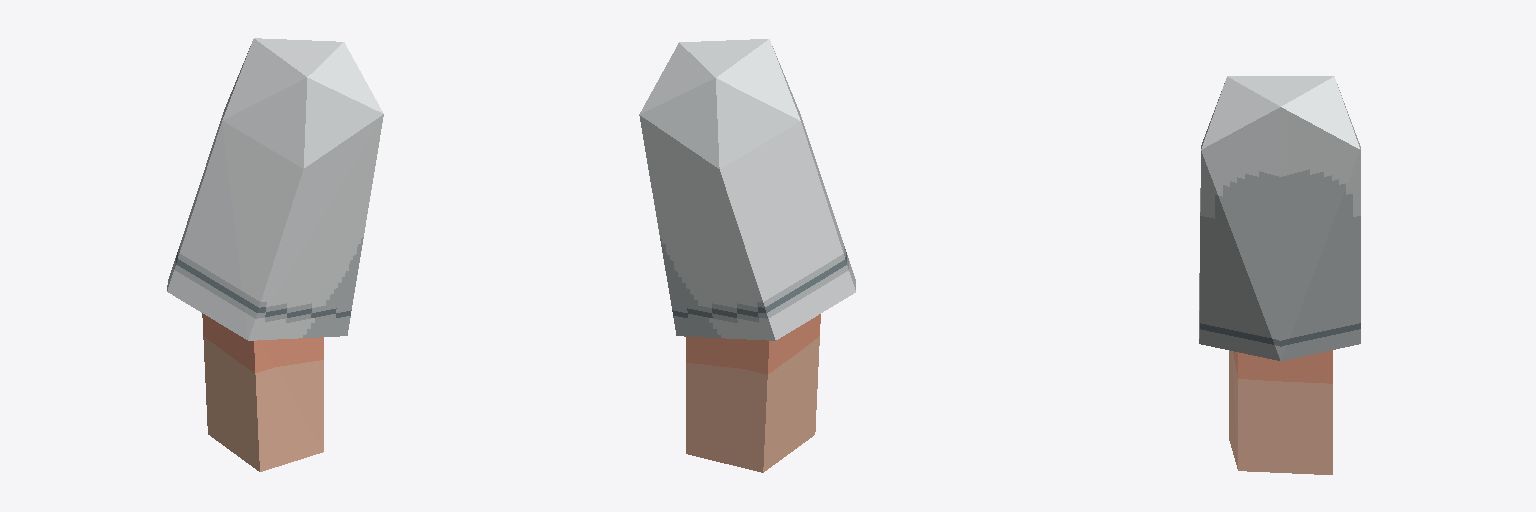
3 renders of one model, left to right at view 1: azimuth 30°, elevation 25°; view 2: azimuth 150°, elevation 25°; view 3: azimuth 270°, elevation 25°, orthographic.
Parts seen in each view (by area): view 1: 07_RIGHT_SHOULDER; view 2: 07_RIGHT_SHOULDER; view 3: 07_RIGHT_SHOULDER.
Boxes of the visible parts, <box> form: 07_RIGHT_SHOULDER: <box>167,38,383,471</box>; 07_RIGHT_SHOULDER: <box>639,39,855,472</box>; 07_RIGHT_SHOULDER: <box>1199,76,1360,474</box>.
Size of the model in its own units: 0.1332 by 0.2766 by 0.105.
1 materials, 1 textured.